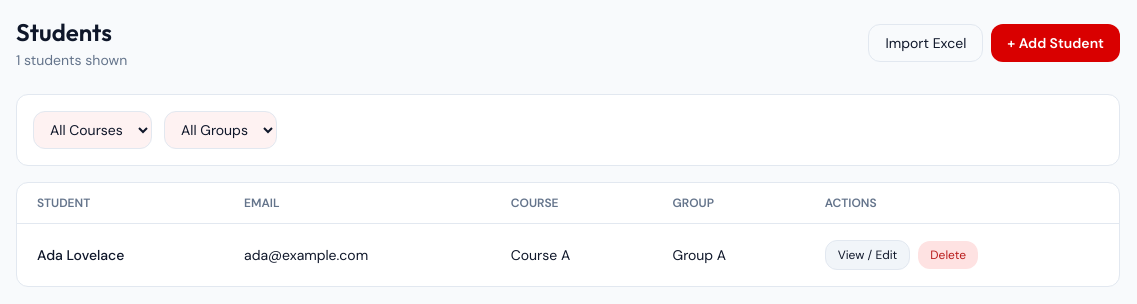
Scenario: AdminStudents › clears filters when "Clear Filters" is clicked
The image size is (1137, 304).
Expected: the heading "Students" is shown, [16,16,127,48]
Expected: the text "Ada Lovelace" is shown, [17,224,224,286]
Select "Course A" in the 1st dropdown showing "All Courses" at coordinates (92, 130), box [33,111,152,149]
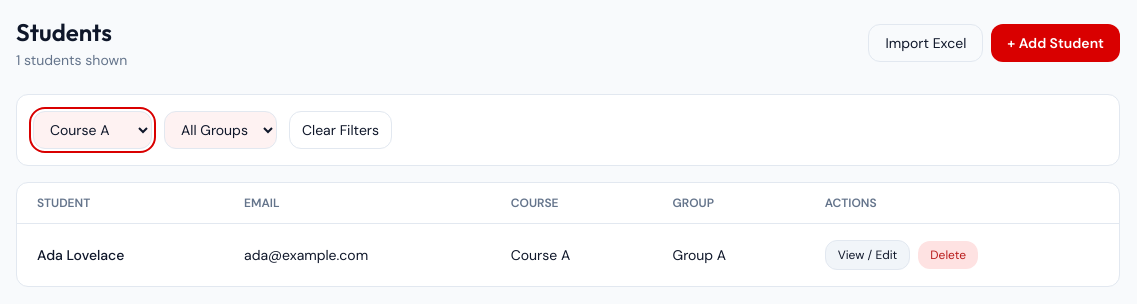
Click the button "Clear Filters" at coordinates (341, 130), box [289,111,392,149]
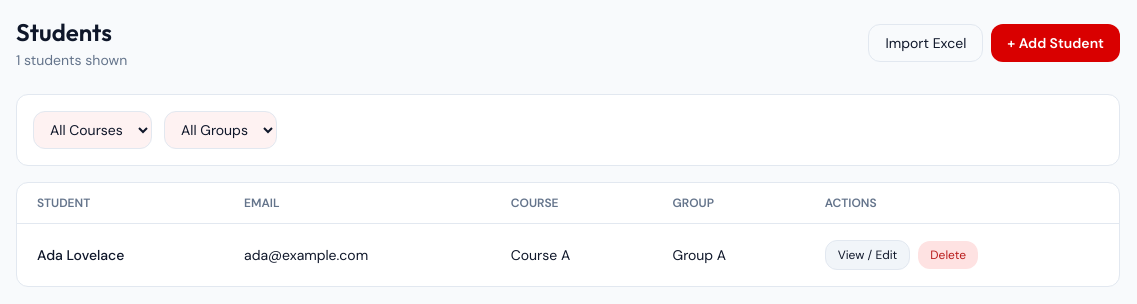
Result: the button "Clear Filters" is gone
